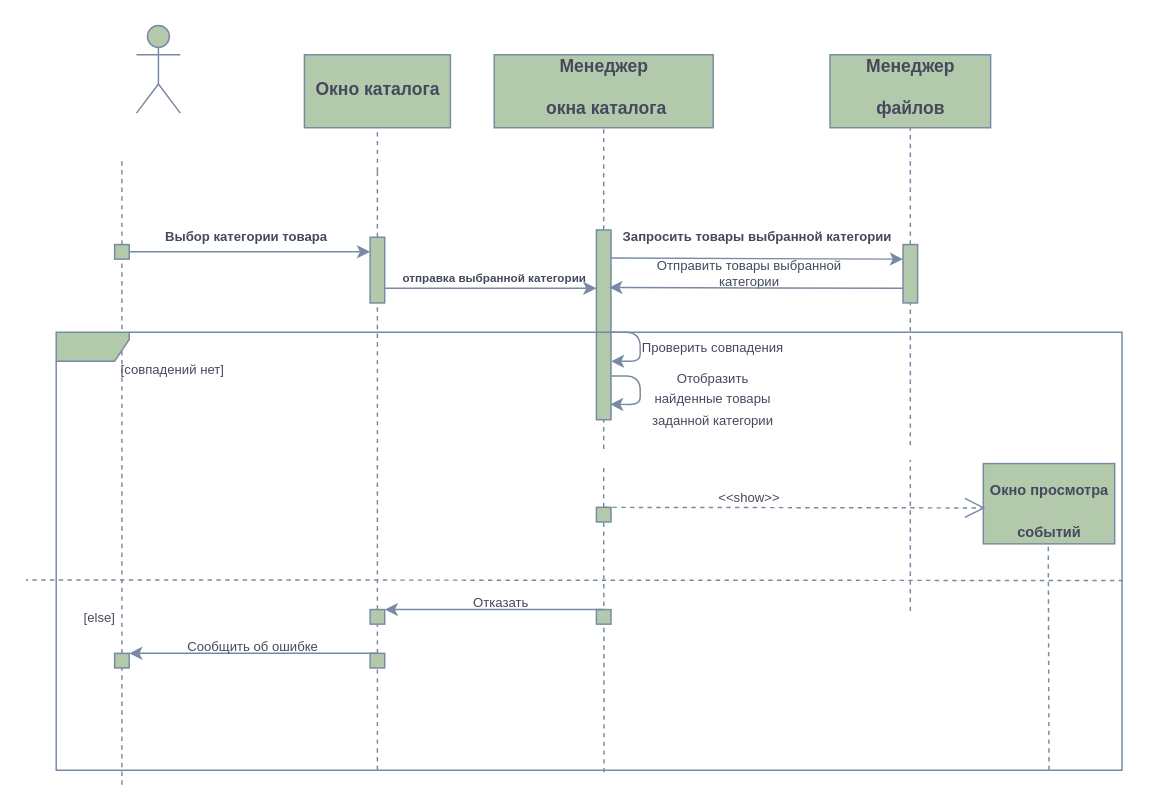
Image size: 1150x812. Some labels were removed from this diagram. The box of each missing label's shape, as (x1, y1, x2, y2) in pixels:
alt: (55, 331, 1122, 770)
Пользователь: (135, 24, 180, 113)
